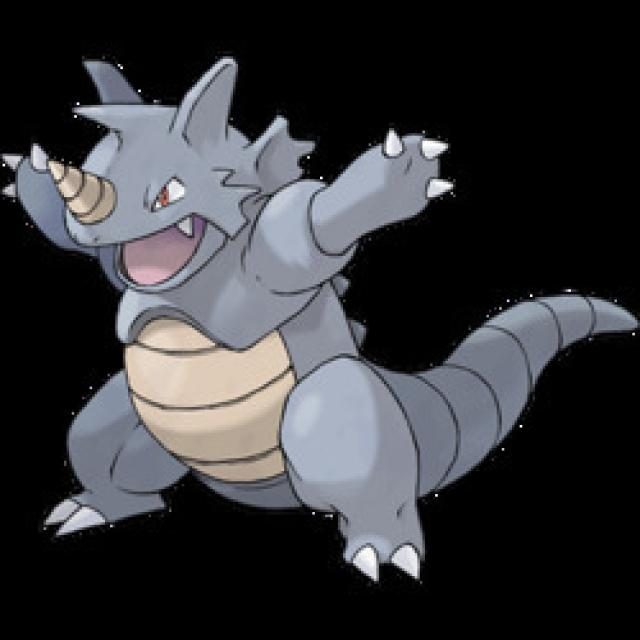Rhydon: (0, 61, 523, 584)
